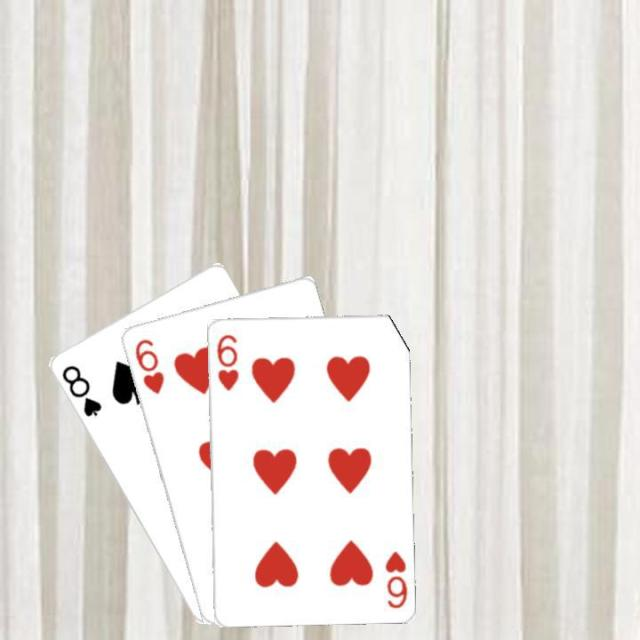6H: (131, 334, 165, 396), (212, 330, 240, 392), (381, 546, 408, 610)
8S: (57, 361, 103, 419)
